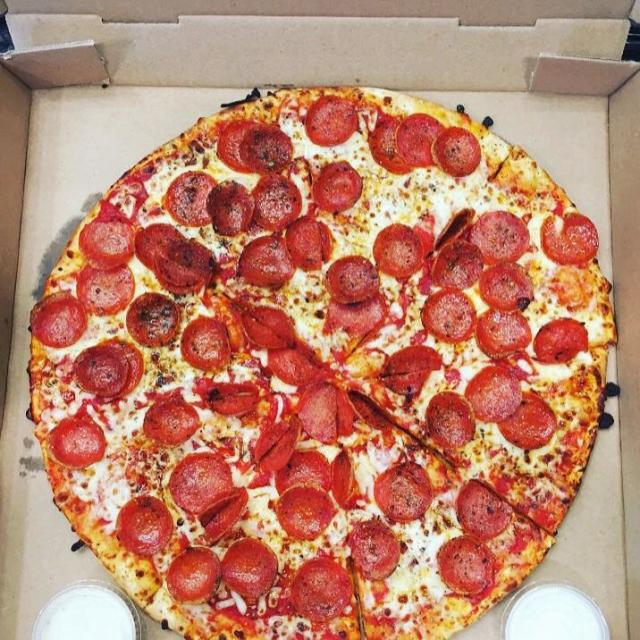pepperoni: (167, 451, 236, 518), (371, 460, 436, 524), (292, 557, 353, 622), (114, 494, 173, 558), (435, 535, 496, 596), (220, 536, 280, 597), (454, 478, 513, 539), (45, 412, 107, 470), (29, 290, 88, 349), (472, 210, 531, 268), (539, 210, 598, 267), (498, 392, 558, 448), (380, 344, 442, 398), (165, 546, 222, 604), (123, 291, 180, 349), (466, 364, 522, 423), (277, 482, 332, 542), (274, 447, 334, 501), (420, 286, 476, 342), (76, 262, 134, 316), (236, 235, 296, 287), (424, 389, 476, 449), (348, 521, 399, 582), (477, 260, 535, 312), (472, 308, 532, 358), (322, 293, 388, 338), (251, 174, 303, 231), (323, 254, 382, 304), (73, 344, 128, 397), (204, 180, 255, 237), (98, 337, 143, 401), (142, 401, 202, 449), (80, 218, 134, 271), (198, 490, 251, 544), (309, 160, 363, 213), (269, 336, 324, 388), (395, 112, 445, 169), (372, 221, 424, 275), (165, 170, 215, 226), (180, 316, 230, 372), (533, 316, 589, 366), (429, 125, 482, 177), (238, 121, 292, 172), (252, 419, 299, 476), (240, 304, 298, 350), (306, 95, 358, 146), (433, 240, 485, 291), (156, 238, 210, 287), (132, 221, 184, 270), (215, 118, 260, 174), (368, 116, 410, 175), (287, 216, 332, 269), (300, 382, 338, 444), (346, 387, 396, 430), (200, 380, 259, 415), (152, 263, 216, 295), (436, 206, 473, 250), (330, 446, 354, 508)
pizza: (27, 83, 623, 640)
